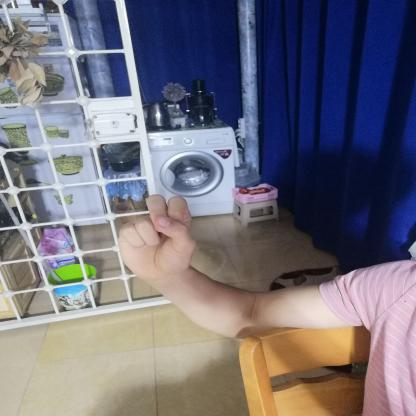QAAF: (105, 187, 208, 289)
